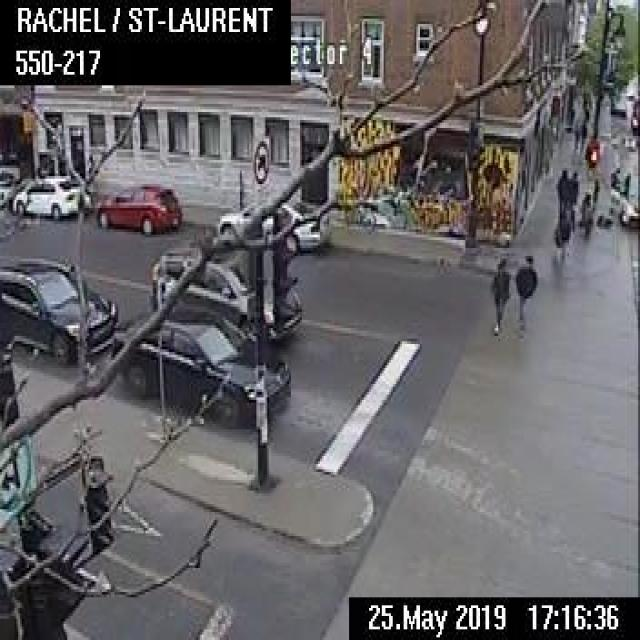pedestrian: (514, 252, 535, 330), (488, 255, 509, 332), (551, 210, 569, 268), (556, 168, 566, 228), (566, 170, 576, 228), (578, 190, 590, 233), (578, 118, 586, 152), (571, 117, 579, 148)
vehicle: (114, 309, 291, 425), (151, 244, 301, 341), (0, 253, 116, 357), (217, 194, 331, 247), (94, 182, 180, 231), (10, 170, 88, 216)
